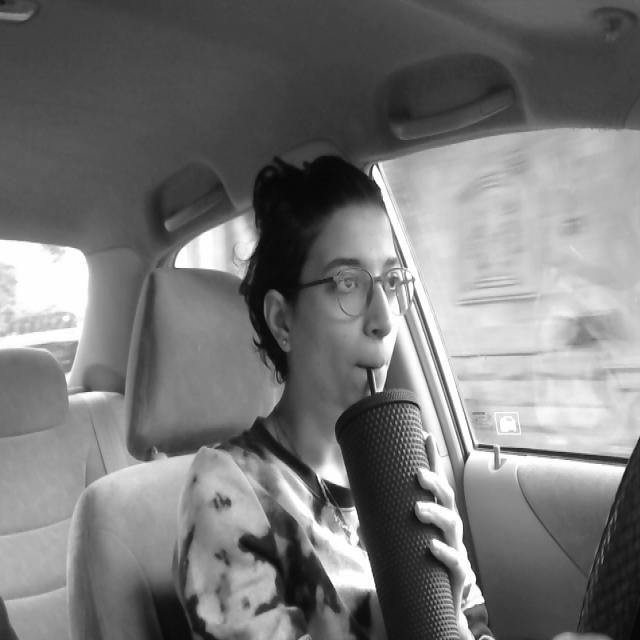drinking: (333, 370, 467, 640)
